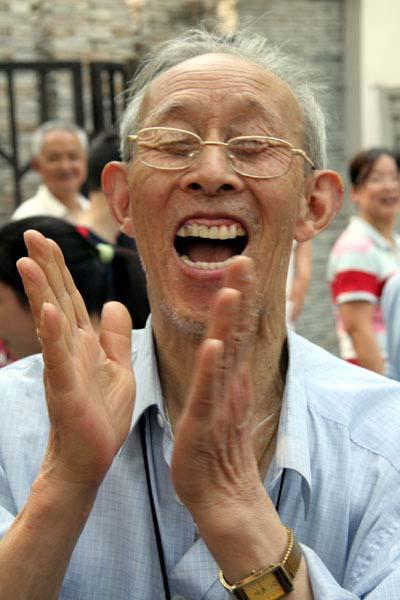person: (2, 36, 400, 598)
